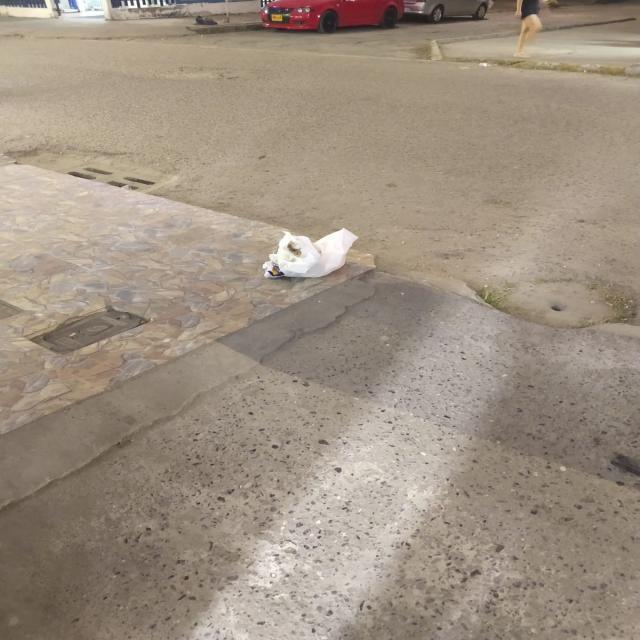Garbage_Bag: (250, 216, 362, 281)
